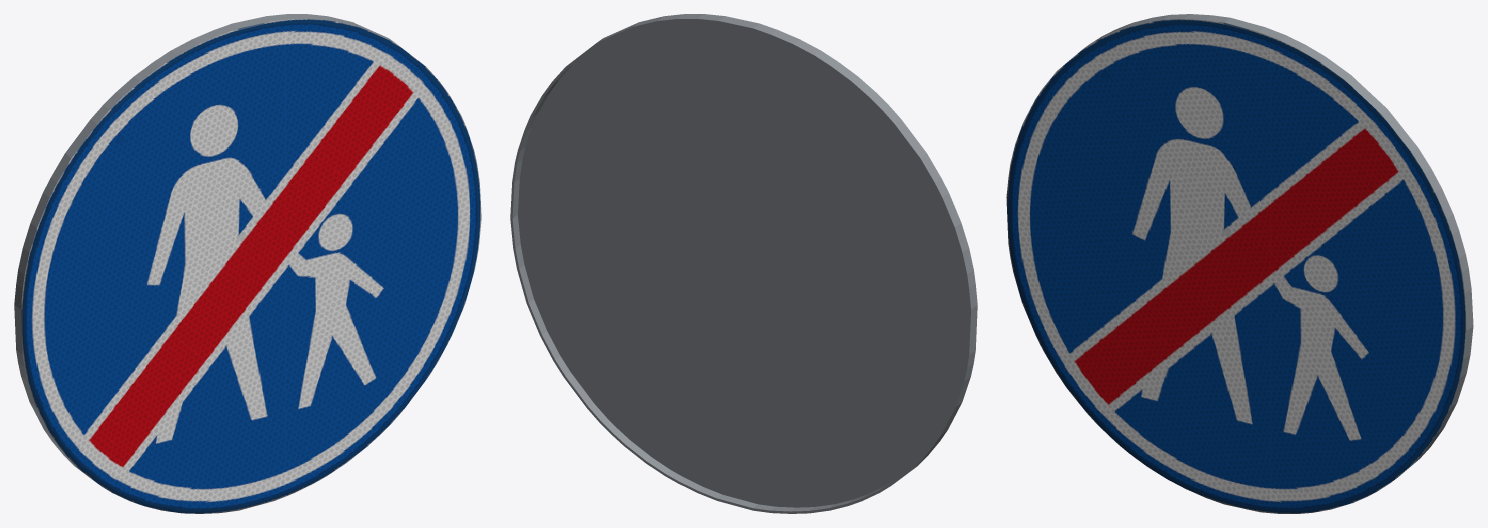
3 renders of one model, left to right at view 1: azimuth 30°, elevation 25°; view 2: azimuth 150°, elevation 25°; view 3: azimuth 330°, elevation 25°, orthographic.
Parts seen in each view (by area): view 1: cat_39db227403b8f142; view 2: cat_39db227403b8f142; view 3: cat_39db227403b8f142.
Boxes of the visible parts, left/top/right/bottom form: cat_39db227403b8f142: left=14, top=14, right=481, bottom=513; cat_39db227403b8f142: left=510, top=14, right=977, bottom=513; cat_39db227403b8f142: left=1006, top=14, right=1473, bottom=513.
Bounding box in the file's own units: 0.6 × 0.015 × 0.6.
Materials: 2 (1 with a texture image).
